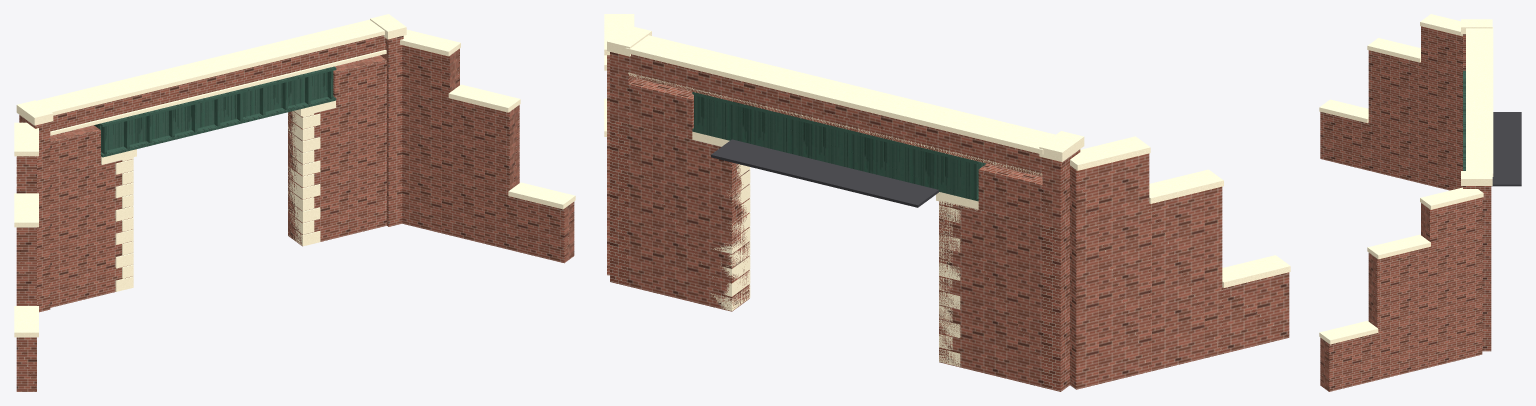
Rendered from portal-rail.glb.
The picture shows the model from 3 angles, left to right: view 1: azimuth 30°, elevation 25°; view 2: azimuth 150°, elevation 25°; view 3: azimuth 270°, elevation 25°; orthographic projection. The views are drawn at different scales.
Parts seen in each view (by area): view 1: Abutment.001, Abutment, Wing.004, Wing.003, ParapetCoping, Parapet, GirderWeb, Wing.005, Pilaster.001, Pilaster, Spandrel.001, Spandrel (+14 smaller); view 2: Abutment.001, Abutment, Wing, Wing.001, GirderWeb, ParapetCoping, Parapet, DeckUnder, Wing.002, Pilaster, Spandrel.001, Spandrel (+10 smaller); view 3: Wing.003, Wing.004, Wing, Wing.001, ParapetCoping, Wing.005, Wing.002, DeckUnder, Abutment.001, Pilaster.001, WingCoping.004, WingCoping.003 (+7 smaller).
Part boxes in pixels (left/top/right/bottom): Abutment.001: left=288, top=93, right=386, bottom=246; Abutment: left=50, top=159, right=132, bottom=307; Wing.004: left=450, top=98, right=519, bottom=249; Wing.003: left=402, top=45, right=459, bottom=235; ParapetCoping: left=37, top=19, right=384, bottom=115; Parapet: left=50, top=35, right=385, bottom=131; GirderWeb: left=94, top=72, right=327, bottom=151; Wing.005: left=509, top=196, right=574, bottom=263; Pilaster.001: left=380, top=36, right=403, bottom=226; Pilaster: left=19, top=115, right=50, bottom=312; Spandrel.001: left=333, top=55, right=386, bottom=105; Spandrel: left=50, top=125, right=100, bottom=174; Abutment.001: left=610, top=119, right=749, bottom=311; Abutment: left=939, top=201, right=1069, bottom=391; Wing: left=1070, top=153, right=1149, bottom=389; Wing.001: left=1149, top=186, right=1222, bottom=371; GirderWeb: left=694, top=94, right=986, bottom=198; ParapetCoping: left=625, top=35, right=1055, bottom=154; Parapet: left=628, top=54, right=1042, bottom=176; DeckUnder: left=711, top=139, right=938, bottom=207; Wing.002: left=1222, top=272, right=1289, bottom=353; Pilaster: left=1042, top=149, right=1080, bottom=391; Spandrel.001: left=628, top=78, right=693, bottom=139; Spandrel: left=978, top=163, right=1042, bottom=224; Wing.003: left=1421, top=197, right=1482, bottom=367; Wing.004: left=1368, top=247, right=1429, bottom=379; Wing: left=1421, top=26, right=1462, bottom=190; Wing.001: left=1368, top=50, right=1420, bottom=183; ParapetCoping: left=1466, top=27, right=1493, bottom=176; Wing.005: left=1320, top=333, right=1377, bottom=391; Wing.002: left=1320, top=112, right=1368, bottom=170; DeckUnder: left=1491, top=112, right=1521, bottom=186; Abutment.001: left=1482, top=234, right=1491, bottom=351; Pilaster.001: left=1463, top=186, right=1491, bottom=350; WingCoping.004: left=1367, top=234, right=1430, bottom=259; WingCoping.003: left=1420, top=187, right=1483, bottom=209.
Size of the model in its own units: 22.55 by 7.55 by 8.
Materials: 4 (3 with a texture image).
